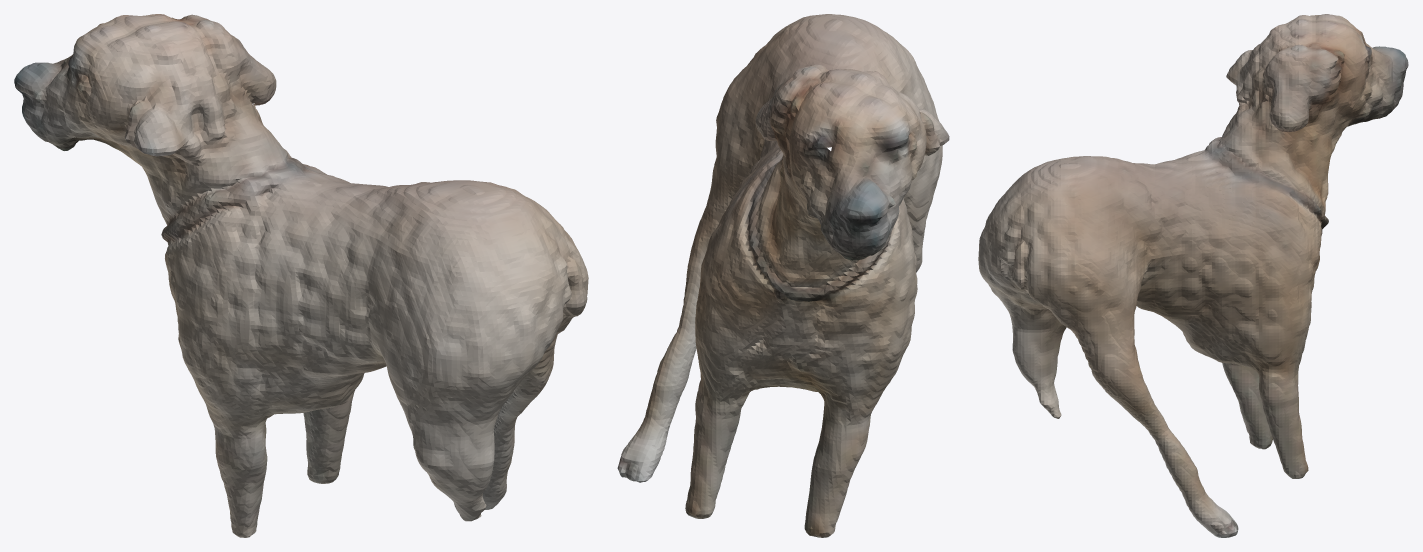
3 renders of one model, left to right at view 1: azimuth 30°, elevation 25°; view 2: azimuth 150°, elevation 25°; view 3: azimuth 270°, elevation 25°, orthographic. The views are drawn at different scales.
Visible parts, largest first — view 1: world; view 2: world; view 3: world.
Part boxes in pixels (x1=…): world: x1=14, y1=14, x2=588, y2=537; world: x1=617, y1=14, x2=949, y2=537; world: x1=978, y1=14, x2=1408, y2=537.
Bounding box in the file's own units: 0.6987 × 0.9116 × 0.8758.
